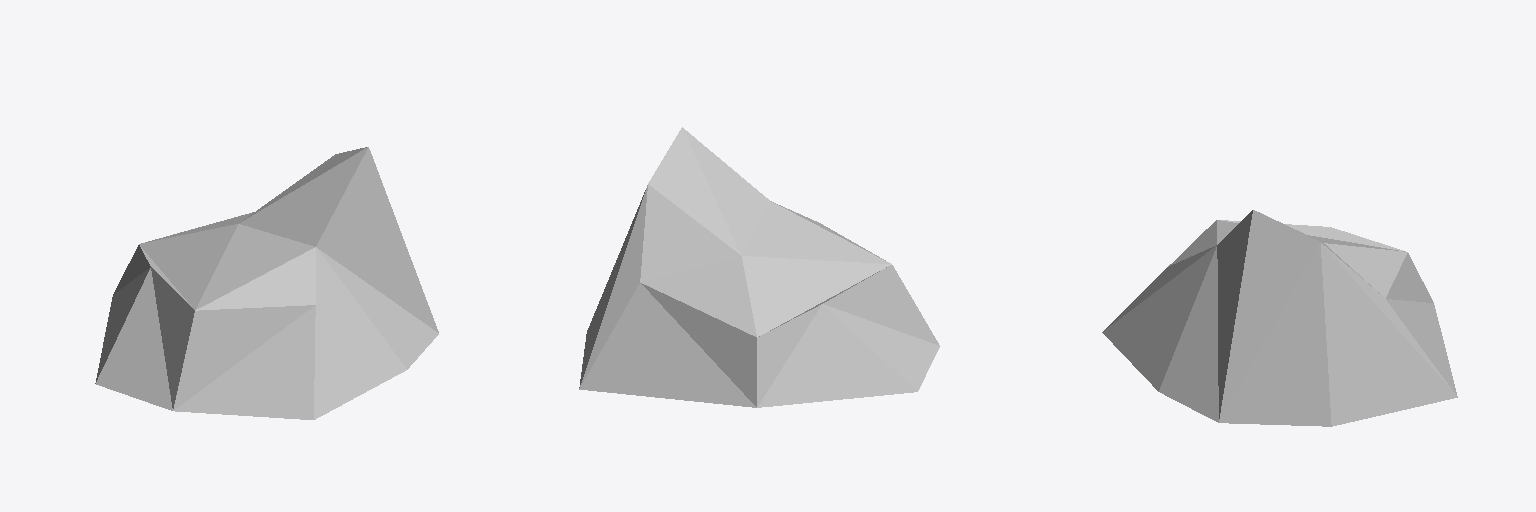
File: Rock_Big.obj
3 views of the same model, side by side, from view 1: azimuth 30°, elevation 25°; view 2: azimuth 150°, elevation 25°; view 3: azimuth 270°, elevation 25° (orthographic).
Parts seen in each view (by area): view 1: pCube8; view 2: pCube8; view 3: pCube8.
Boxes of the visible parts, x1,y1,x2,y2 form: pCube8: [95, 147, 438, 419]; pCube8: [579, 127, 939, 407]; pCube8: [1102, 210, 1457, 426].
Bounding box in the file's own units: 3.93 × 2.3 × 3.9.